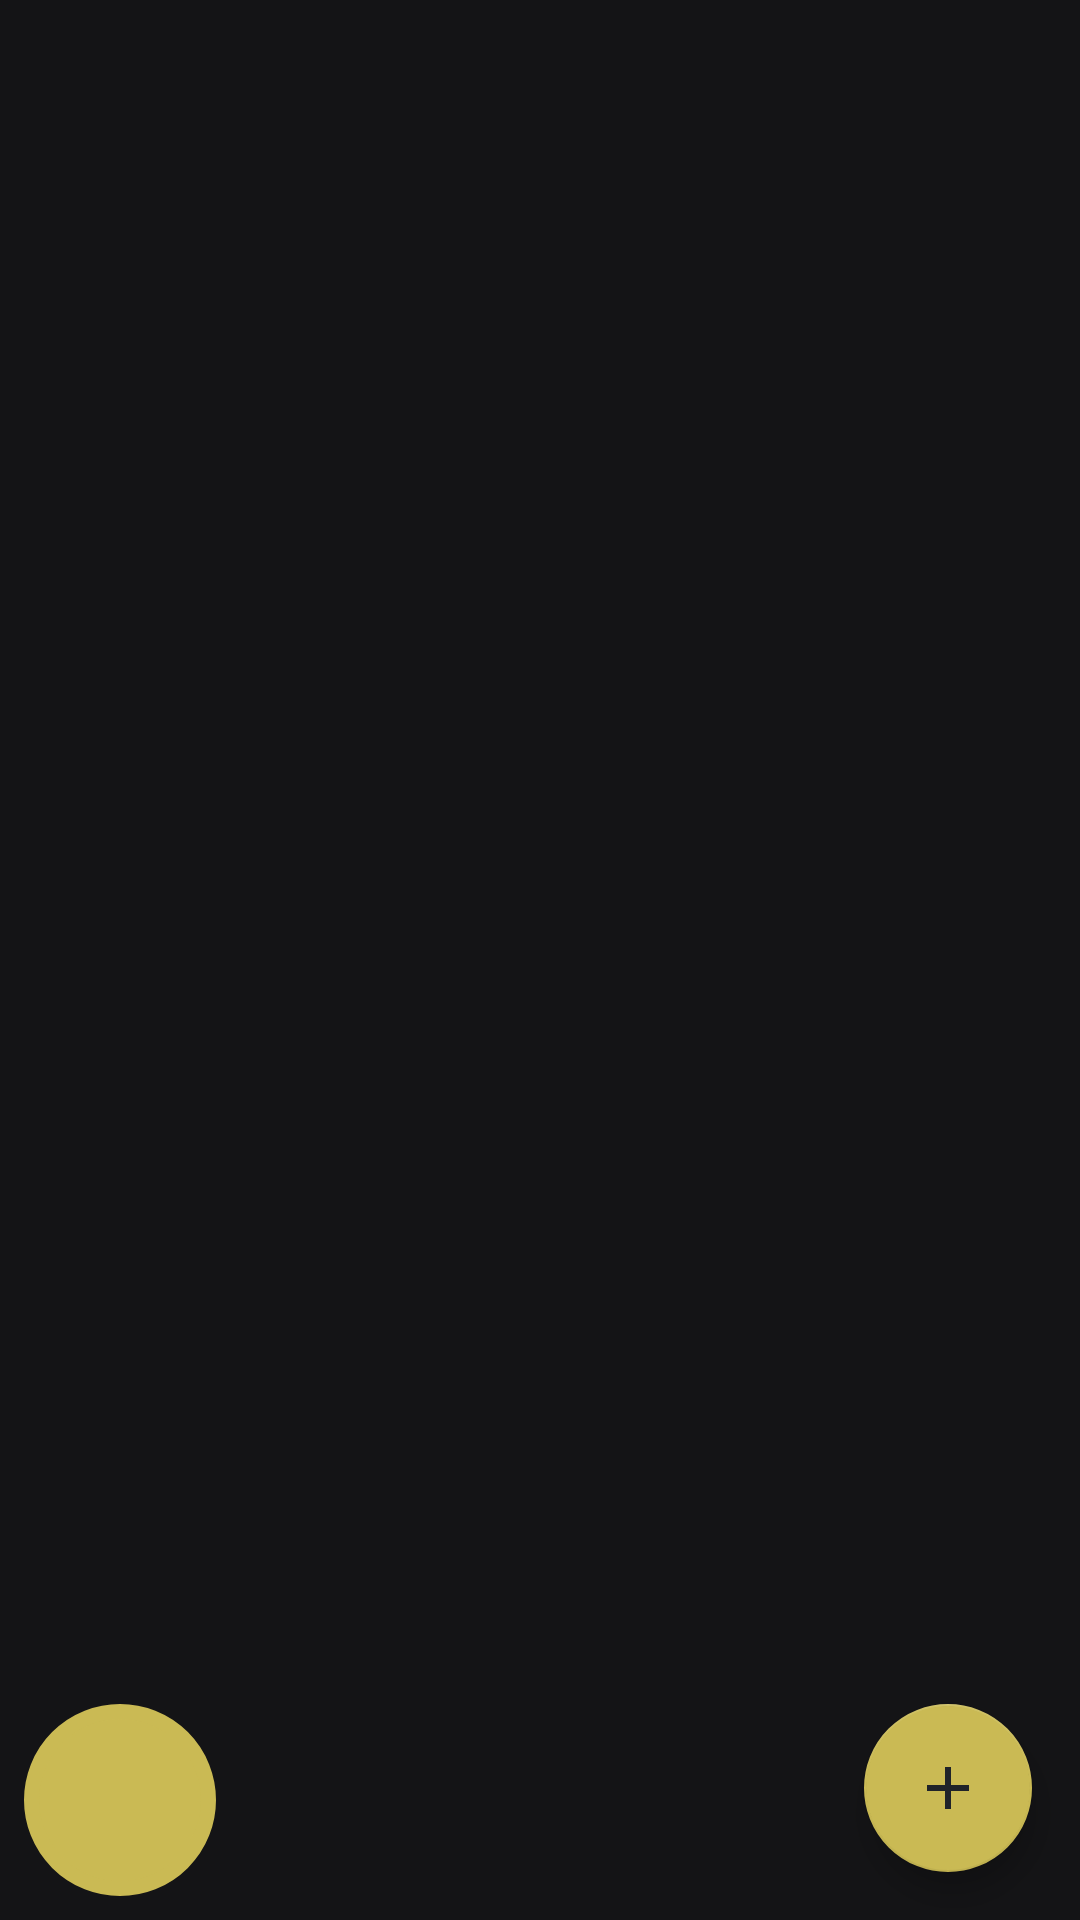

Where icons sit on this 1080×1920 app screen, as {"left": x1, "top": y1, "right": x2, "bottom": y2}:
fuck adicionar: {"left": 864, "top": 1704, "right": 1032, "bottom": 1872}
